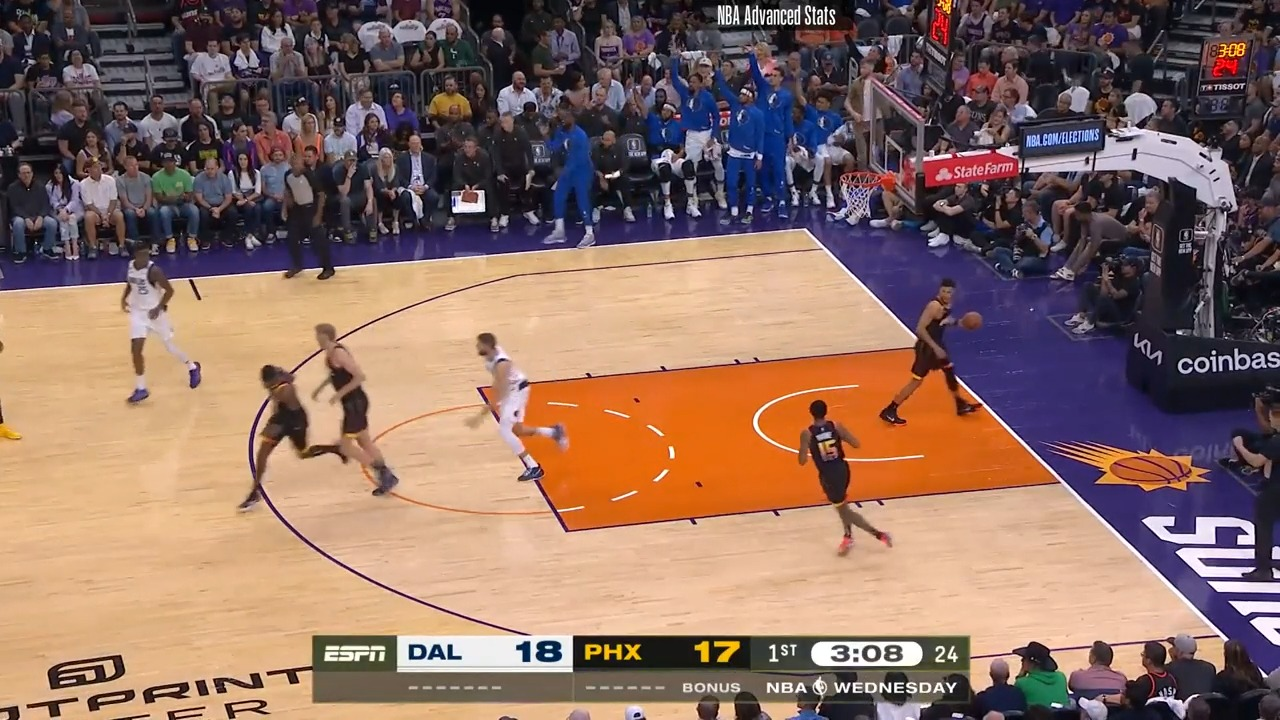net: (834, 160, 897, 226)
player: (302, 321, 399, 502), (460, 331, 567, 492), (798, 398, 900, 559), (115, 243, 207, 410), (884, 279, 984, 424), (235, 361, 314, 514)
referee: (270, 151, 339, 282)
